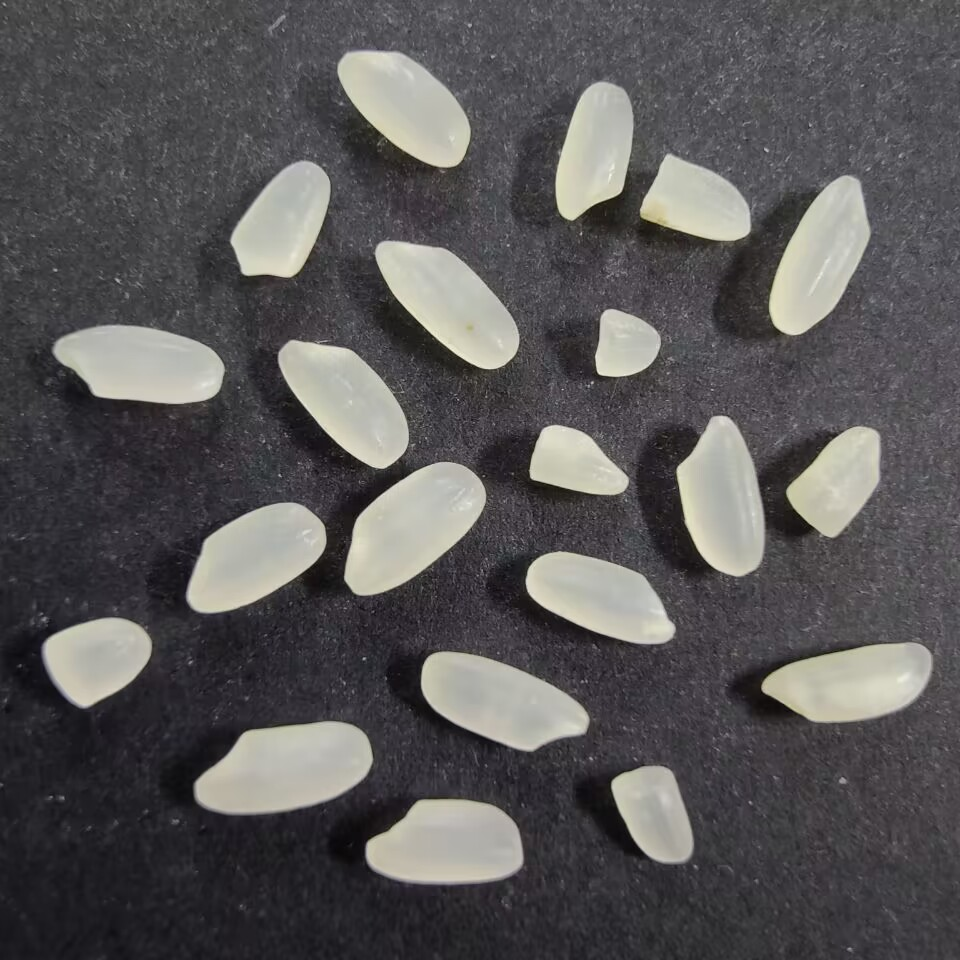broken: (228, 156, 334, 287), (784, 425, 888, 540), (37, 614, 153, 714), (636, 154, 752, 242), (608, 762, 701, 868), (528, 420, 631, 501), (589, 306, 662, 385)
rice: (341, 458, 488, 602), (370, 238, 522, 375), (417, 646, 596, 754), (277, 333, 412, 472), (192, 719, 373, 820), (766, 172, 873, 340), (182, 499, 330, 616), (519, 546, 677, 653), (336, 47, 472, 169), (757, 637, 935, 728), (672, 413, 768, 579), (358, 794, 527, 885), (48, 321, 227, 406), (552, 79, 639, 222)
